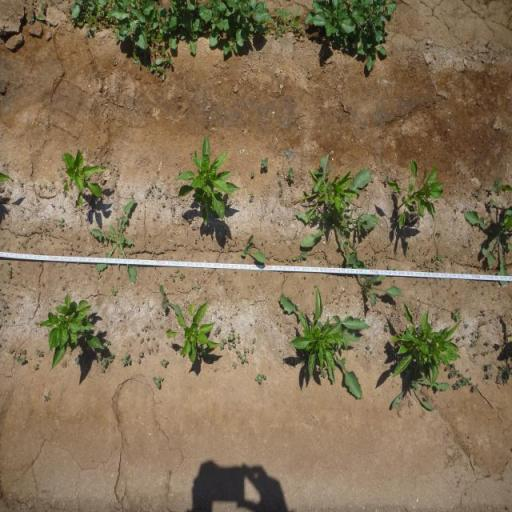plant: (389, 298, 463, 383), (175, 132, 242, 223), (40, 292, 104, 370), (290, 288, 341, 376), (389, 157, 446, 230), (166, 298, 219, 361), (60, 148, 107, 208), (299, 165, 355, 215)
weed: (291, 168, 381, 271), (305, 0, 399, 72), (198, 0, 274, 55), (90, 198, 138, 282), (328, 314, 371, 400), (386, 364, 451, 416), (466, 209, 512, 282), (346, 251, 403, 309), (114, 0, 156, 50), (68, 0, 118, 39), (167, 0, 201, 55), (148, 30, 175, 81), (269, 4, 306, 38), (241, 233, 268, 263), (159, 285, 183, 315), (497, 363, 512, 386), (491, 174, 503, 196), (293, 251, 310, 263), (152, 375, 164, 390), (120, 351, 130, 367), (197, 344, 208, 358), (12, 354, 26, 365), (286, 166, 296, 180), (254, 374, 268, 384), (29, 14, 45, 22), (74, 356, 85, 367), (454, 378, 464, 390), (260, 156, 268, 170), (102, 356, 110, 370), (490, 197, 501, 207), (40, 0, 48, 13), (141, 324, 151, 334), (56, 216, 66, 226), (453, 308, 461, 320), (450, 370, 462, 378), (433, 255, 443, 264), (160, 358, 170, 367), (228, 332, 236, 342), (191, 283, 201, 291), (34, 348, 42, 358), (7, 265, 13, 278), (236, 349, 243, 360), (464, 376, 472, 385), (130, 188, 136, 200), (110, 287, 118, 296), (472, 189, 482, 196), (147, 346, 154, 356), (109, 352, 116, 362), (33, 362, 40, 372), (145, 186, 152, 196), (157, 186, 162, 199), (448, 362, 456, 370), (179, 272, 186, 281), (0, 304, 7, 313), (478, 320, 488, 326), (471, 338, 477, 348), (384, 323, 390, 333), (242, 354, 248, 364), (216, 324, 222, 334), (321, 370, 328, 378), (138, 350, 145, 358), (48, 184, 56, 191), (249, 192, 254, 202), (423, 395, 430, 402), (60, 164, 67, 171), (486, 363, 492, 371), (244, 346, 250, 354), (232, 361, 238, 369), (220, 343, 226, 351), (218, 314, 224, 322), (455, 336, 462, 342), (232, 342, 238, 349), (485, 374, 493, 379), (438, 230, 444, 236), (478, 332, 484, 338), (464, 322, 470, 328), (483, 350, 489, 356), (250, 171, 256, 177), (222, 338, 228, 344), (174, 268, 180, 274), (106, 339, 112, 345), (58, 172, 64, 178), (21, 349, 28, 354), (9, 347, 14, 354), (473, 384, 477, 392), (228, 343, 232, 351), (140, 336, 144, 344), (97, 353, 101, 361), (487, 339, 492, 345), (22, 244, 27, 250), (42, 183, 48, 188), (253, 336, 257, 343), (366, 345, 371, 350), (393, 266, 397, 272), (214, 330, 217, 338), (162, 202, 166, 208), (385, 175, 389, 180), (278, 179, 282, 184), (280, 186, 282, 196), (238, 334, 240, 344), (146, 336, 150, 341), (473, 330, 476, 336), (251, 348, 254, 354), (138, 358, 141, 364), (137, 332, 140, 338), (173, 276, 176, 282), (19, 180, 22, 186), (388, 263, 390, 271), (152, 337, 156, 341), (170, 274, 174, 278), (456, 206, 458, 212), (160, 324, 163, 328), (464, 335, 466, 340), (232, 327, 234, 332), (278, 170, 280, 174), (314, 284, 316, 288)
